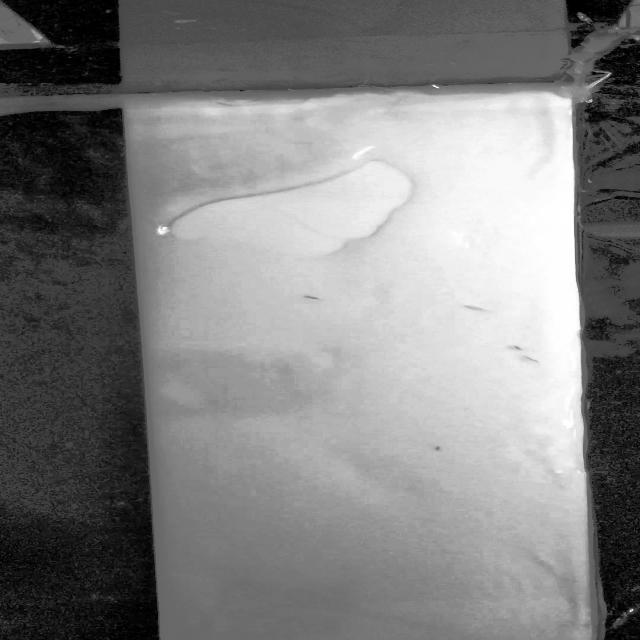shrimp: (452, 300, 514, 328), (287, 288, 349, 312), (414, 438, 457, 464), (508, 354, 553, 369), (496, 338, 538, 352)
